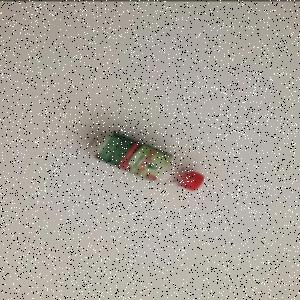Plastic-bottle: (86, 129, 206, 193)
